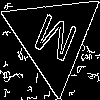M: (28, 12, 80, 71)
